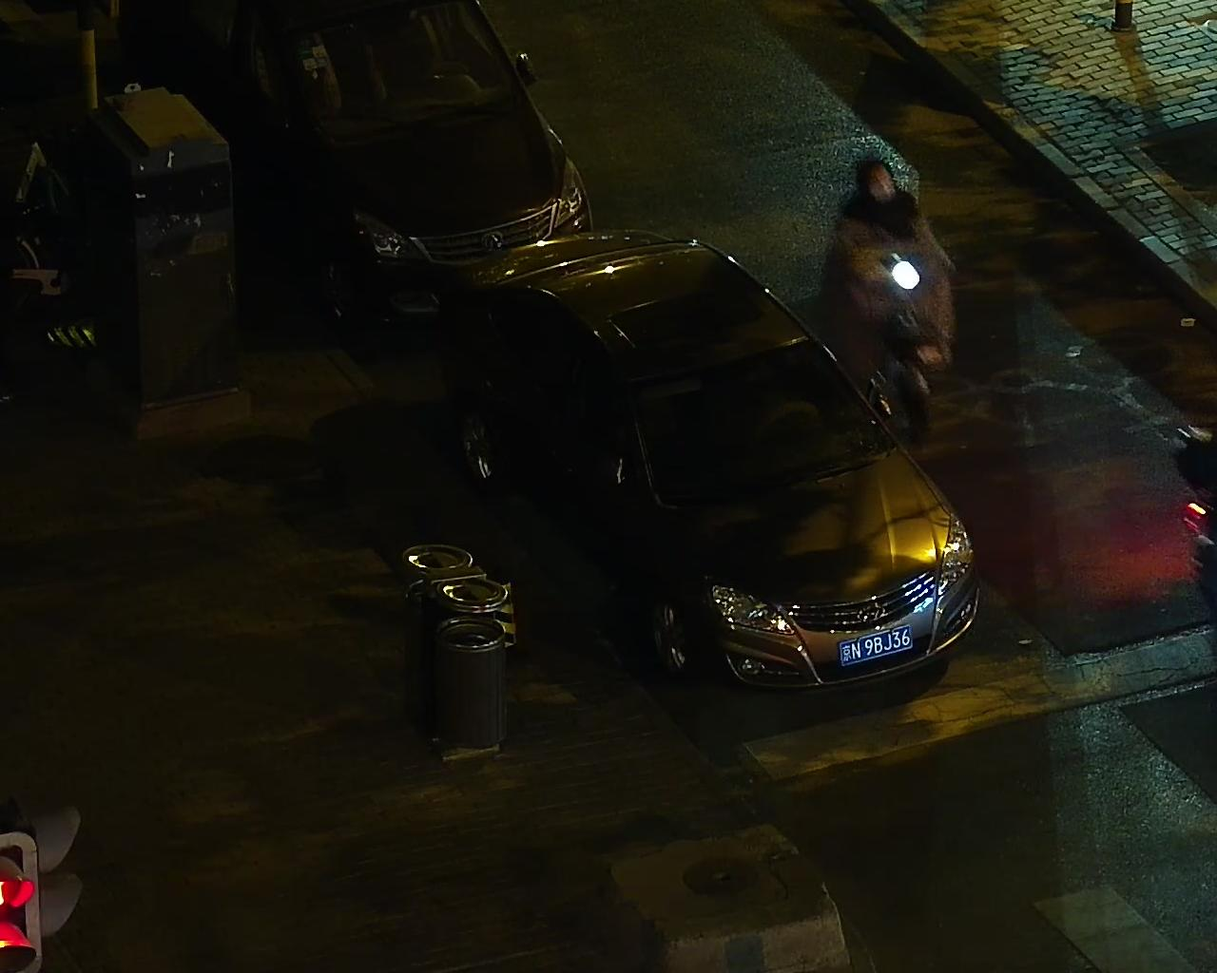person: (832, 142, 947, 386), (1, 147, 39, 407)
